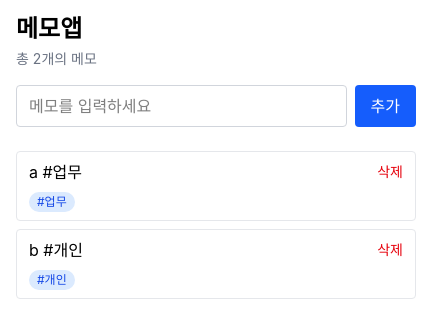
Test: App 태그 필터 › should clear the filter and show the remaining memos when all memos of the filtered tag are deleted
This screenshot has width=433, height=316.
Step 1. Click the button "#업무" → (52, 202), box [29,192,75,212]
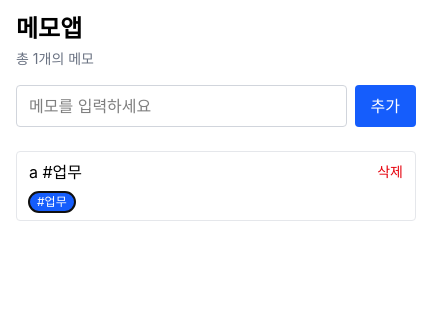
Step 2. Click the button "삭제" → (390, 172), box [377,162,403,182]
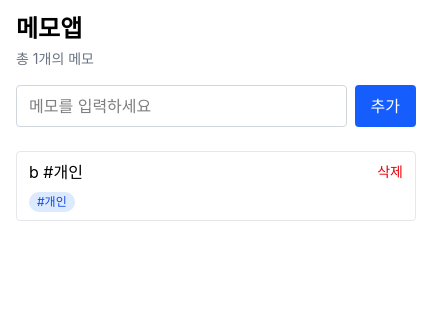
Now the text "총 1개의 메모" is shown, box [16,50,94,67]
Now the text "b #개인" is shown, box [29,160,83,184]
